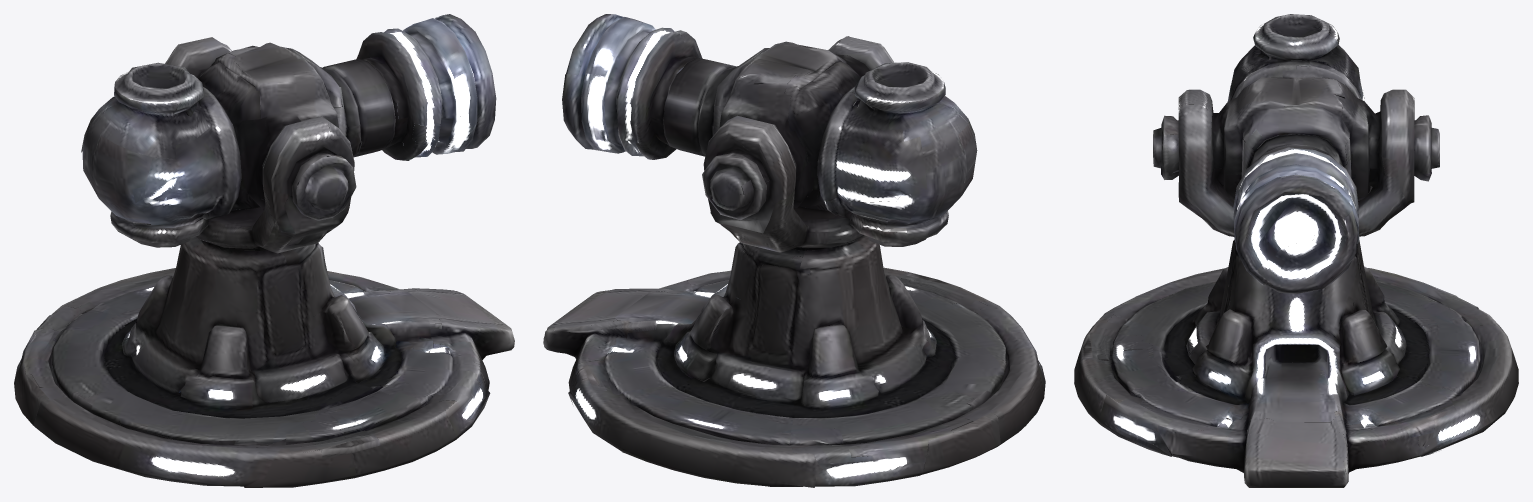
The model's file is Relay_Cannon_v4_T2.glb.
3 views of the same model, side by side, from view 1: azimuth 30°, elevation 25°; view 2: azimuth 150°, elevation 25°; view 3: azimuth 270°, elevation 25° (orthographic). The views are drawn at different scales.
Visible parts, largest first — view 1: Relay_Cannon_v4, Head; view 2: Relay_Cannon_v4, Head; view 3: Relay_Cannon_v4, Head.
Boxes of the visible parts, left/top/right/bottom form: Relay_Cannon_v4: left=14, top=209, right=514, bottom=487; Head: left=81, top=14, right=496, bottom=253; Relay_Cannon_v4: left=543, top=207, right=1045, bottom=487; Head: left=562, top=14, right=977, bottom=252; Relay_Cannon_v4: left=1074, top=239, right=1518, bottom=487; Head: left=1153, top=14, right=1439, bottom=293.
Size of the model in its own units: 8.73 by 6.3 by 8.1.
Materials: 1 (1 with a texture image).
